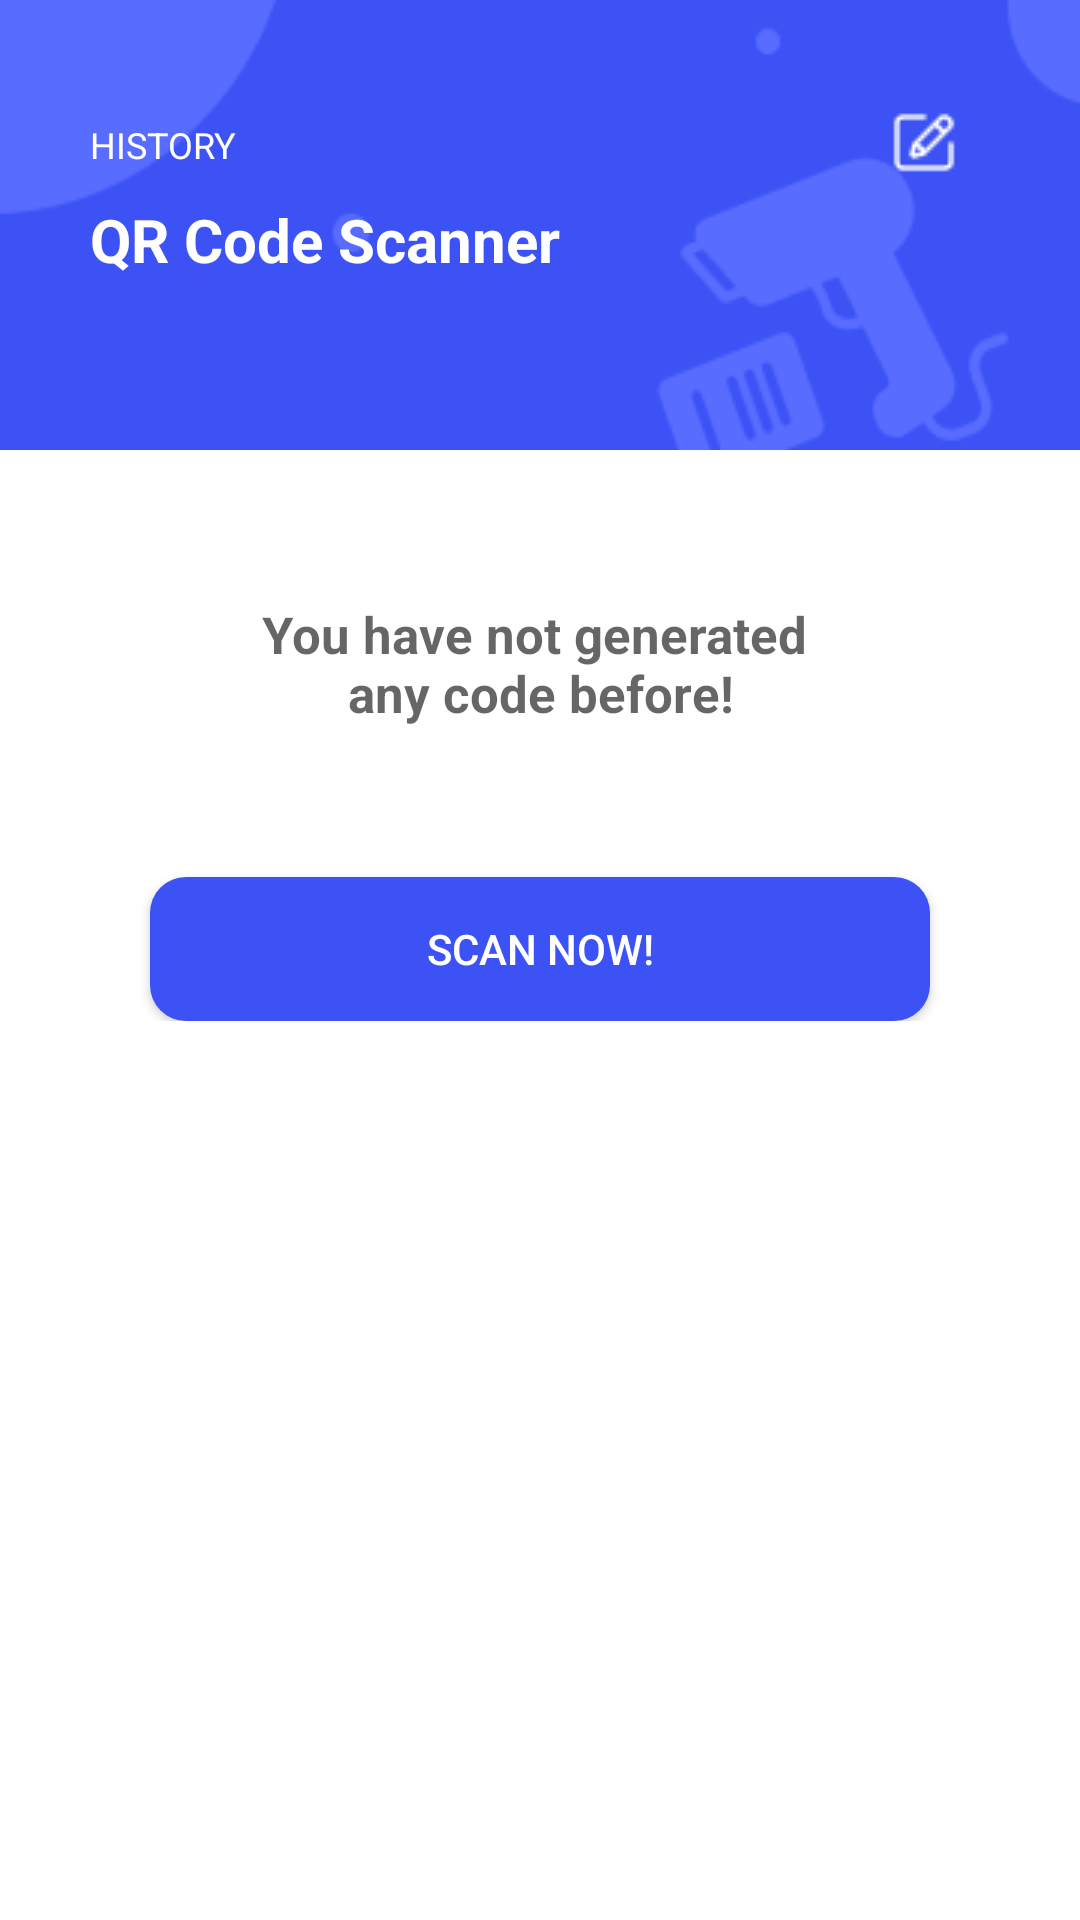

Screen size 1080x1920. Icon name, then its center in pixels as (x,y):
imv pen edit: (924,142)
